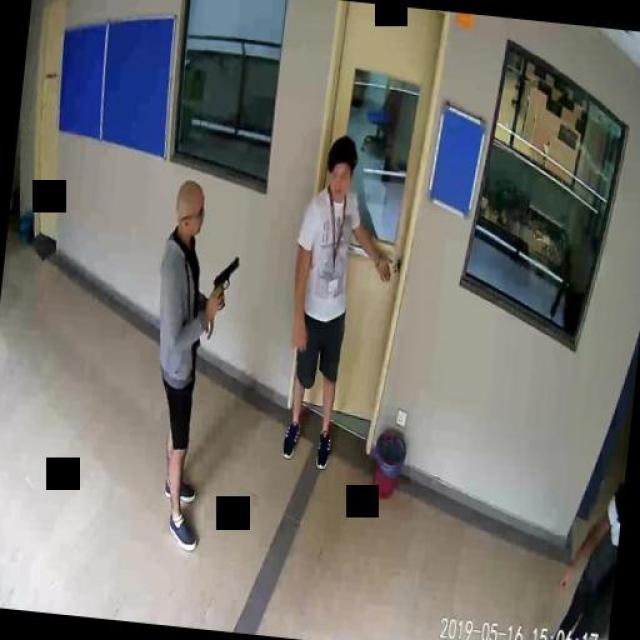gun: (210, 252, 239, 310)
